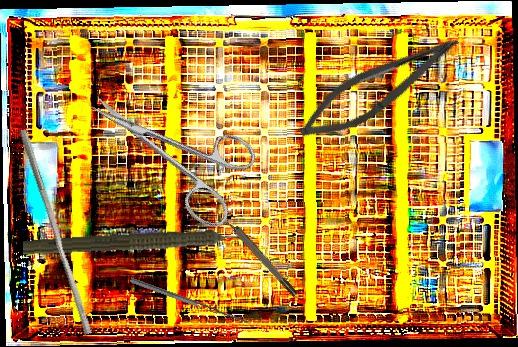Fixation Ring: (215, 207, 300, 302)
Handpiece: (22, 223, 256, 265)
Iris Scissors: (69, 59, 268, 234)
Micro Scissor: (290, 15, 467, 156)
Pusher: (10, 128, 100, 336)
Spatula Surgical: (129, 272, 255, 327)
